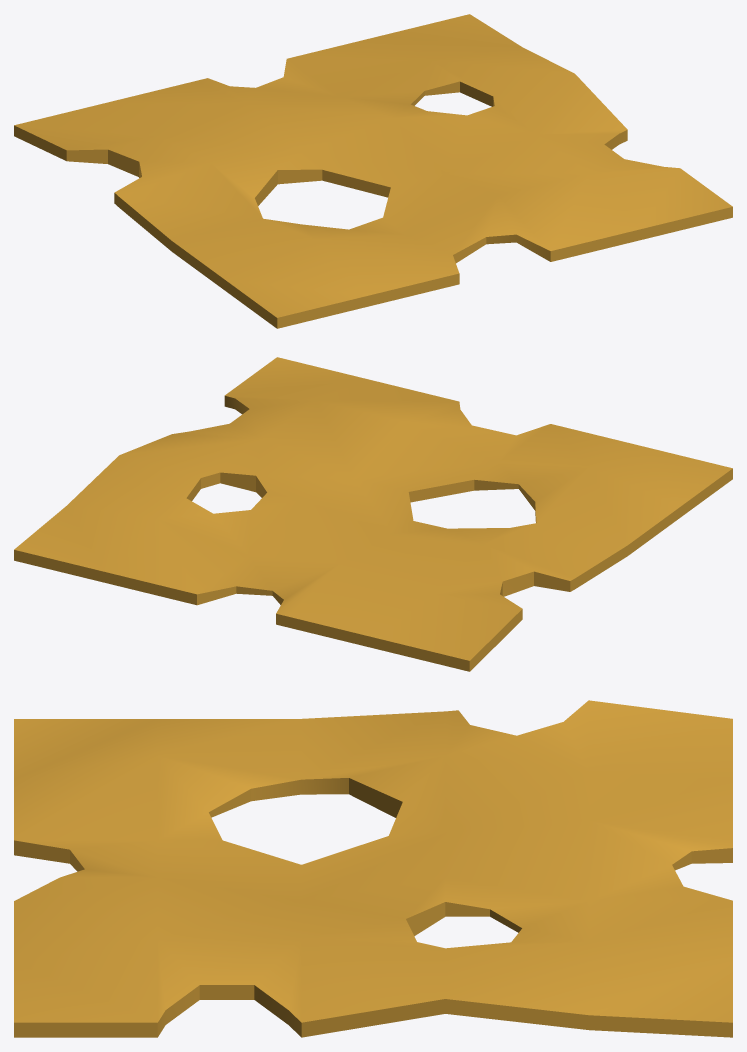
The model's file is Cheese.FBX.
The picture shows the model from 3 angles, top to bottom: view 1: azimuth 30°, elevation 25°; view 2: azimuth 150°, elevation 25°; view 3: azimuth 270°, elevation 25°; orthographic projection. The views are drawn at different scales.
Parts seen in each view (by area): view 1: Cheese; view 2: Cheese; view 3: Cheese.
Boxes of the visible parts, x1,y1,x2,y2 form: Cheese: (14,14,732,328); Cheese: (14,357,732,671); Cheese: (14,700,732,1037).
Size of the model in its own units: 8.42 by 8.42 by 0.5.
